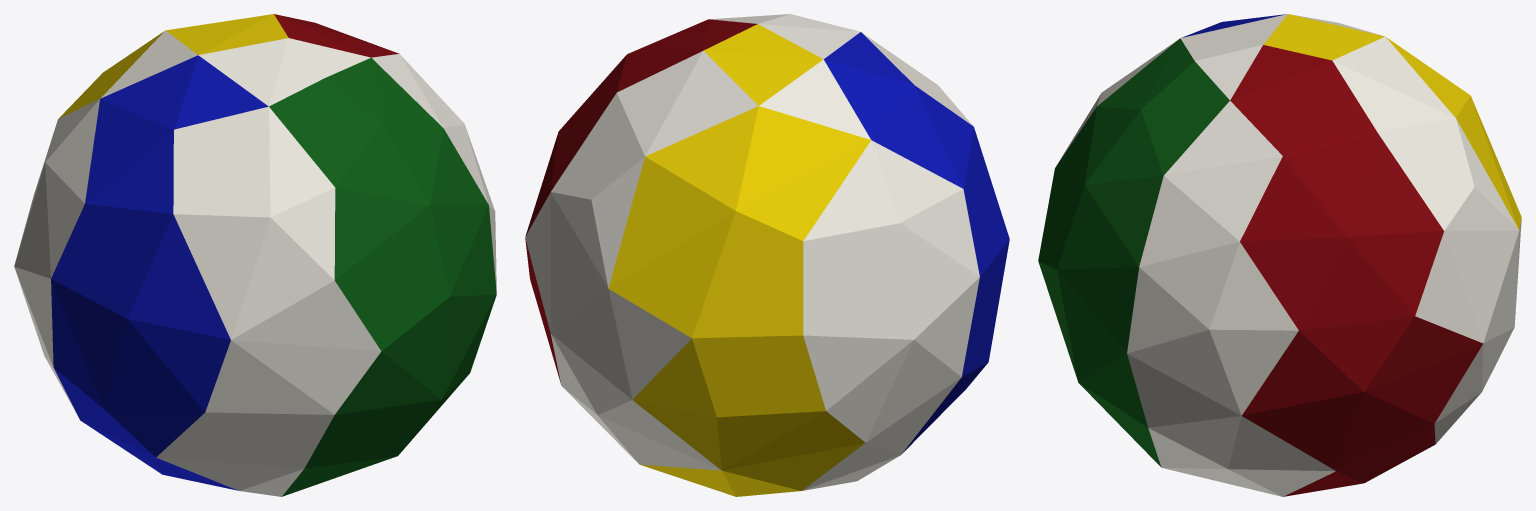
File: Beach Ball 2.glb
3 views of the same model, side by side, from view 1: azimuth 30°, elevation 25°; view 2: azimuth 150°, elevation 25°; view 3: azimuth 270°, elevation 25° (orthographic).
Visible parts, largest first — view 1: Beach Ball 2; view 2: Beach Ball 2; view 3: Beach Ball 2.
Part boxes in pixels (x1,y1,x2,y2): Beach Ball 2: (14, 14, 496, 496); Beach Ball 2: (525, 14, 1009, 496); Beach Ball 2: (1038, 14, 1521, 496).
Size of what is drawn, in the model's own units: 0.5016 by 0.5016 by 0.5025.
